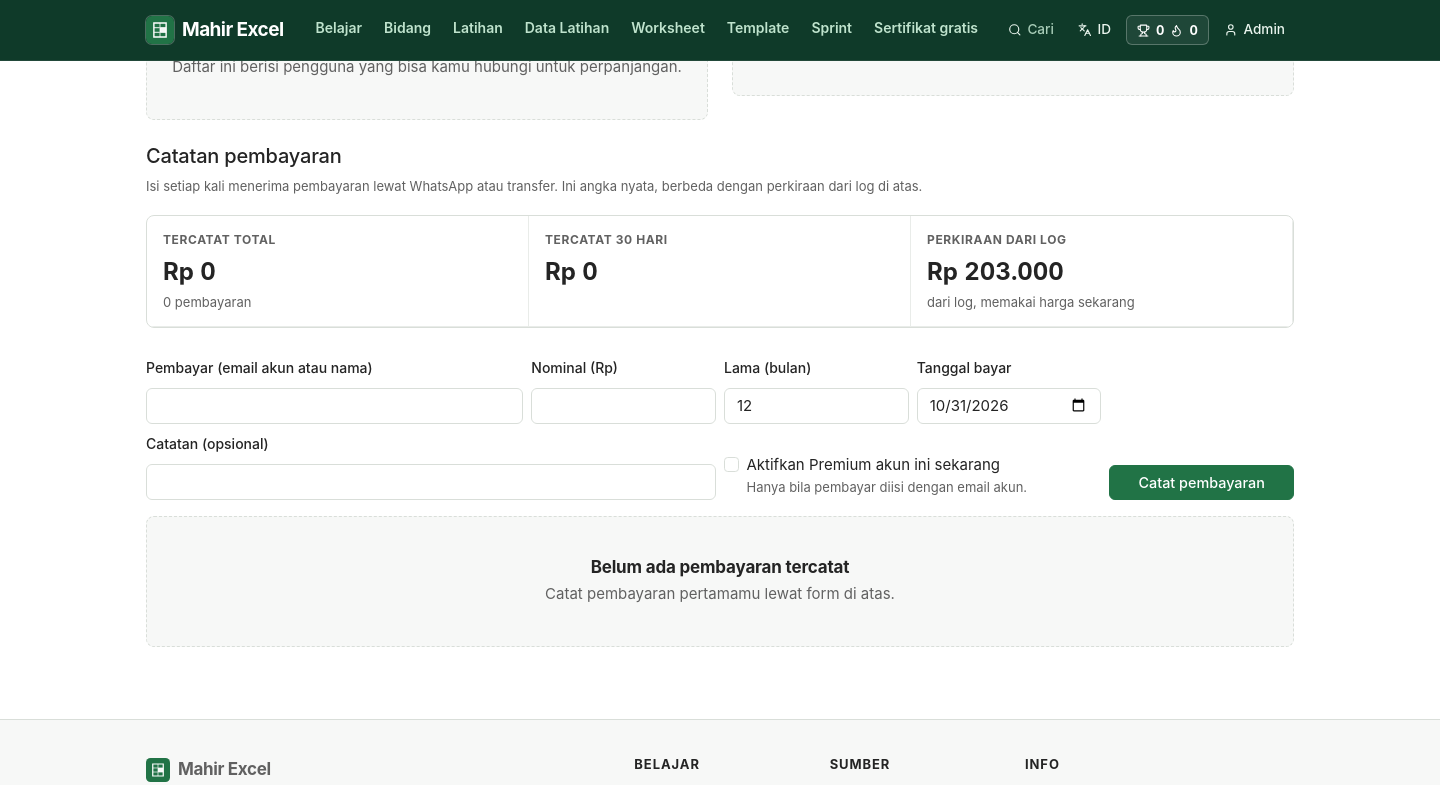
it: catatan pembayaran manual di halaman Premium › menampilkan alasan penolakan dari server dan mempertahankan isian
This screenshot has width=1440, height=785.
(page scrolled)
Check: the heading "Catatan pembayaran" is shown, box [146,144,342,168]
In the field labelled "Pembayar (email akun atau nama)": (335, 406) [146,388,523,424], type "Budi"
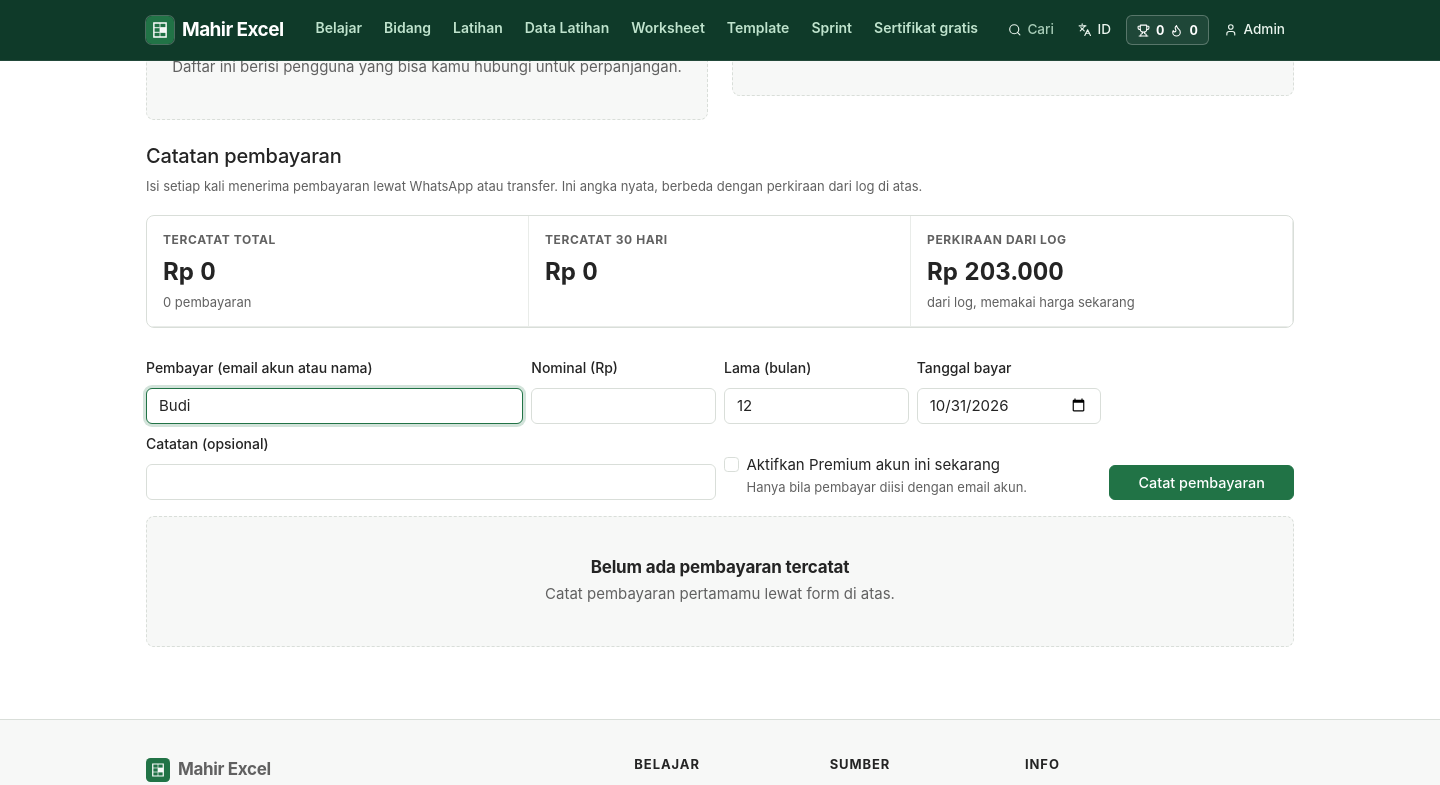
In the number field labelled "Nominal (Rp)": (624, 406) [531,388,716,424], type "29000"
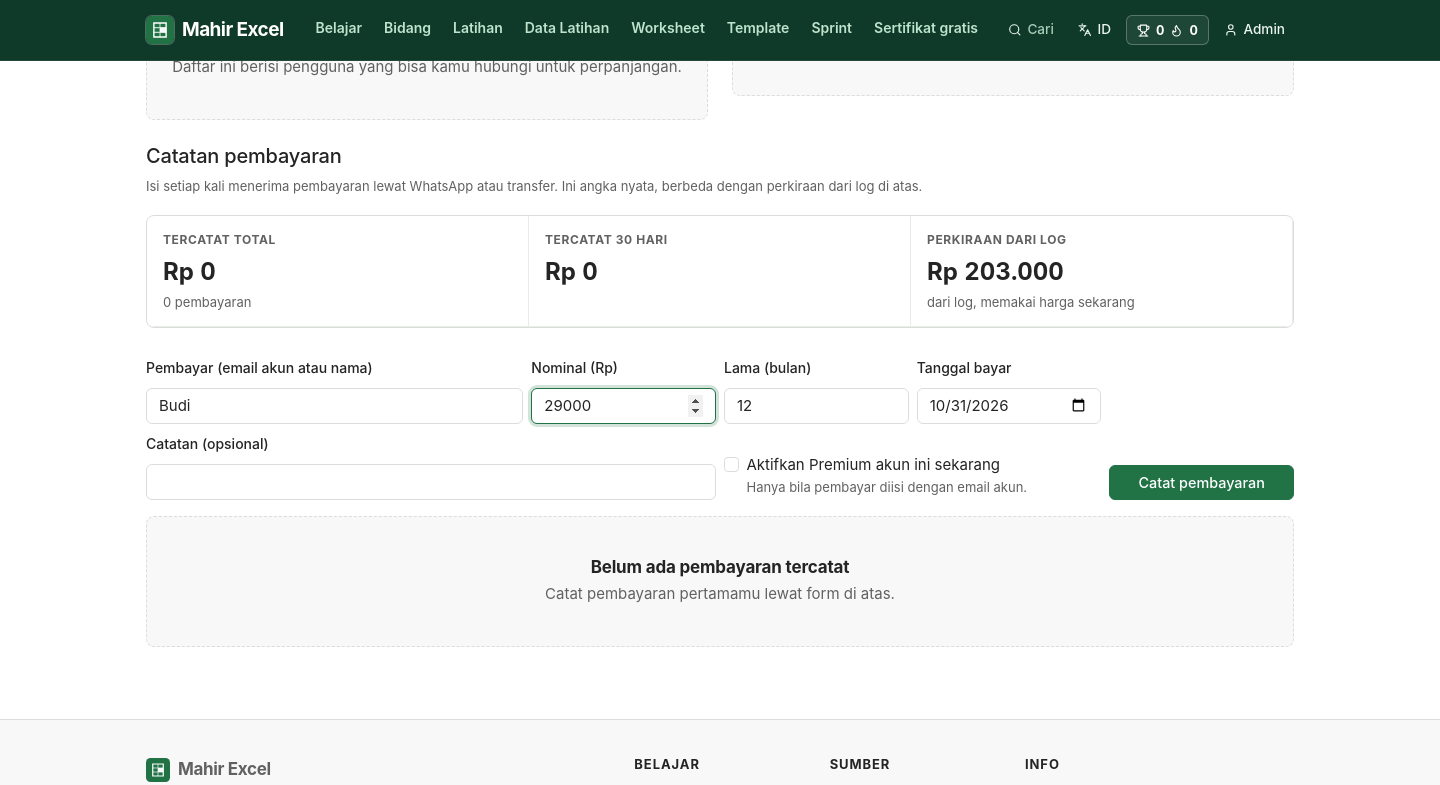
Click the checkbox labelled "Aktifkan Premium akun ini sekarang": (732, 465) [724,457,739,472]
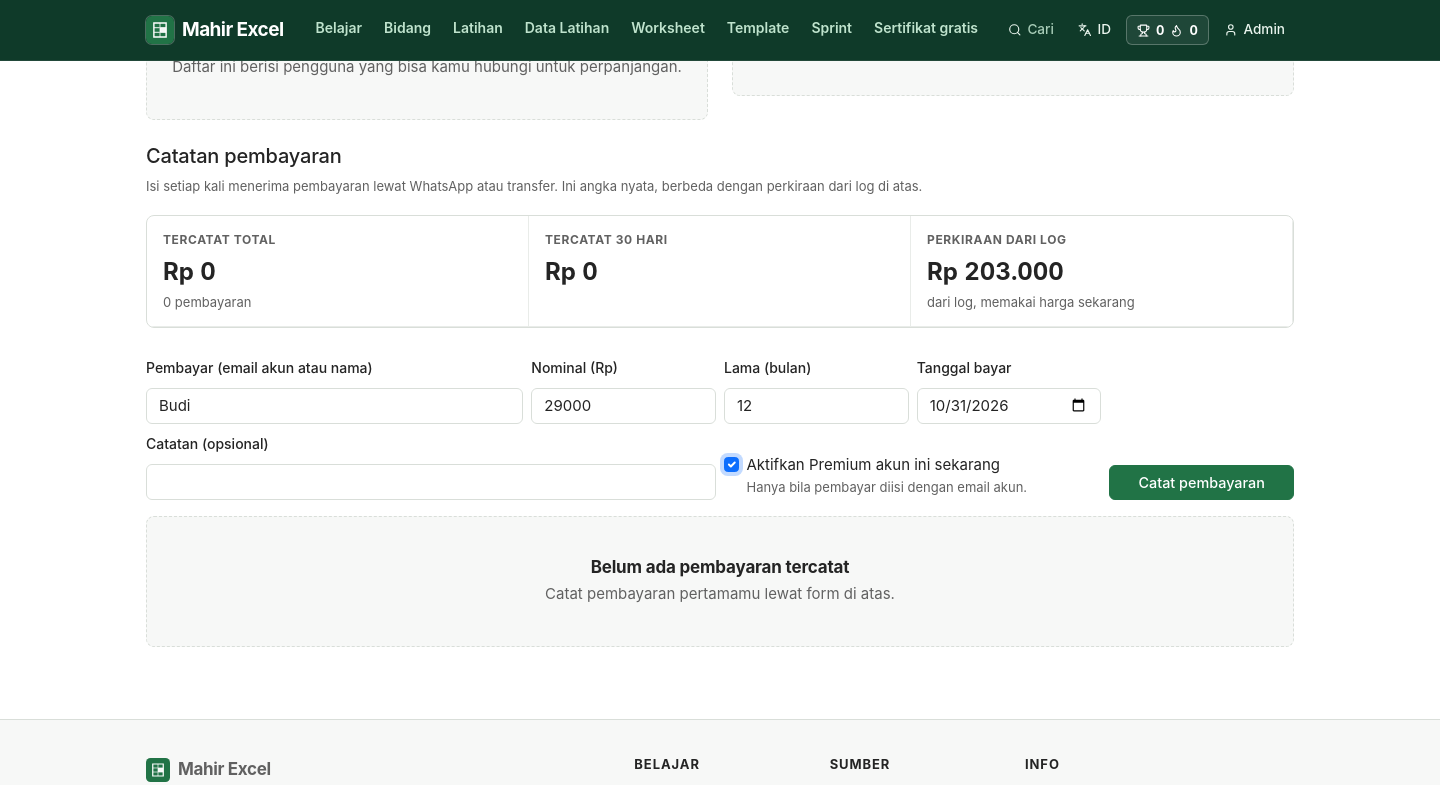
Click the button "Catat pembayaran": (1202, 482) [1109,464,1294,500]
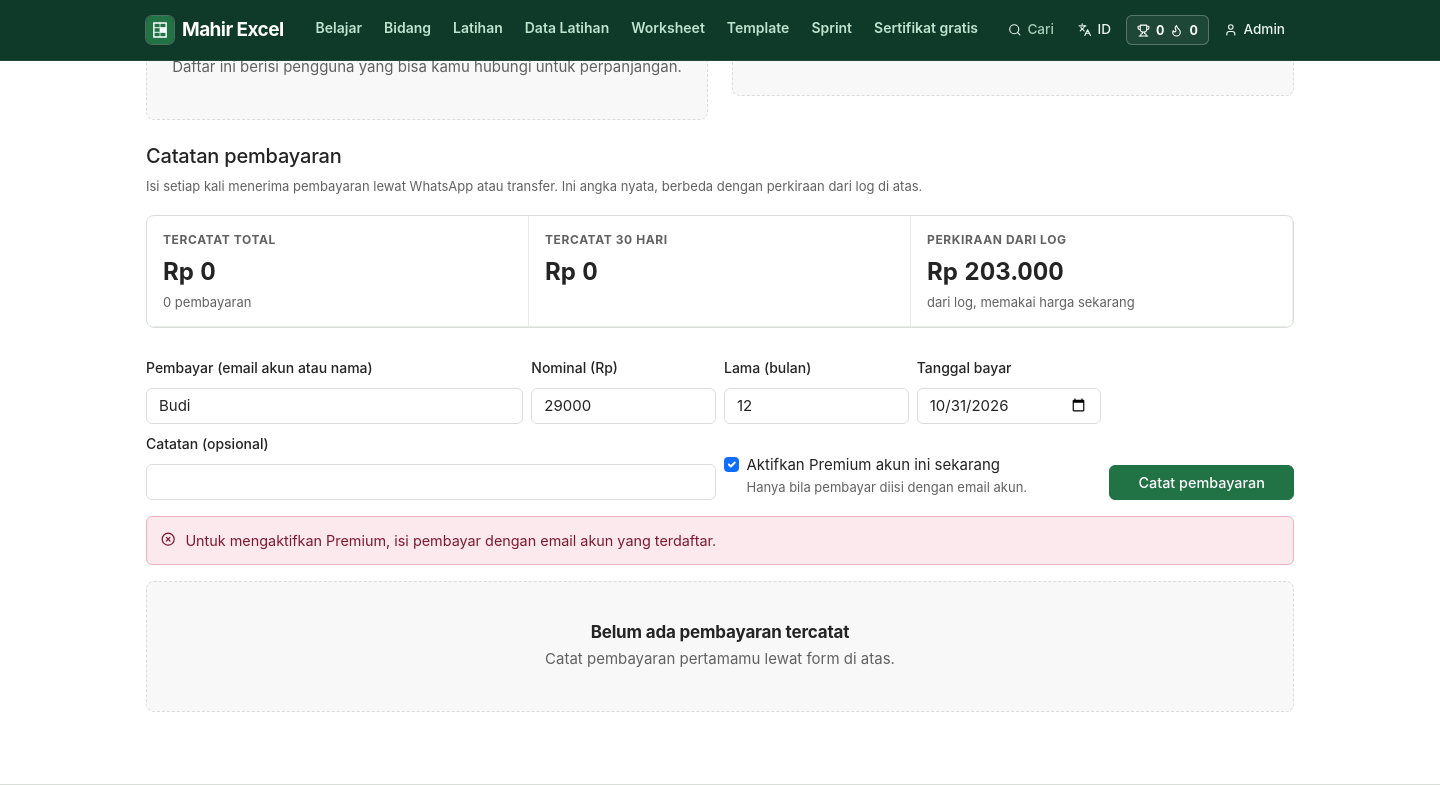
Check: the message shows "isi pembayar dengan email akun yang terdaftar", box [185,532,716,549]
